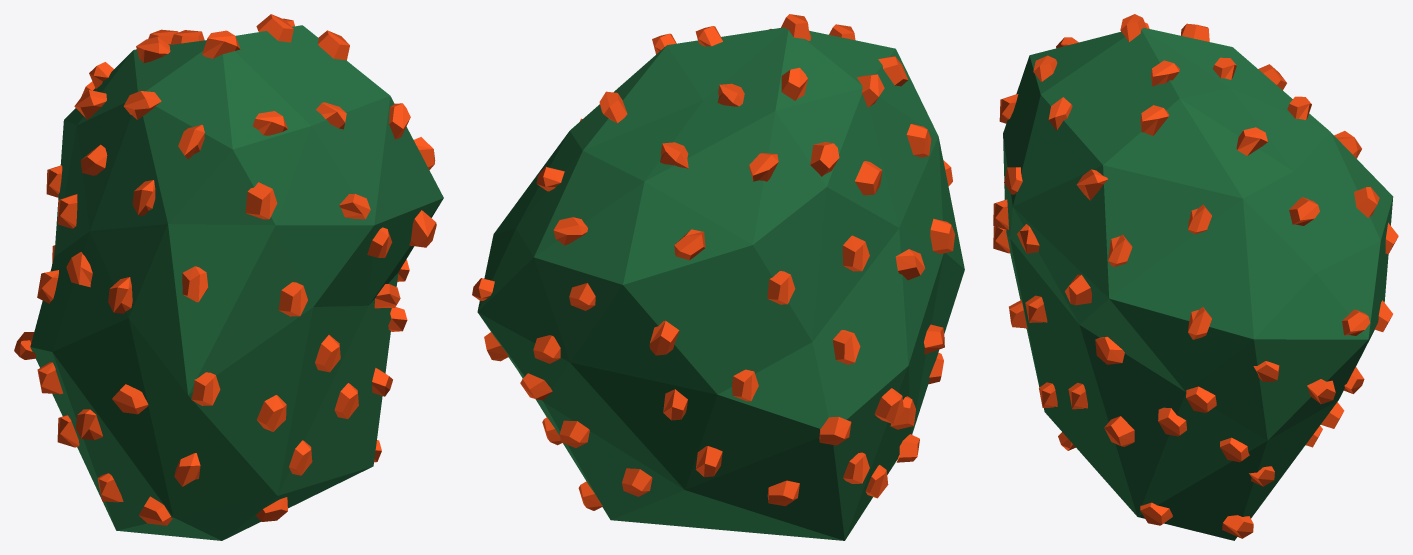
Rendered from bush_1.FBX.
3 renders of one model, left to right at view 1: azimuth 30°, elevation 25°; view 2: azimuth 150°, elevation 25°; view 3: azimuth 270°, elevation 25°, orthographic. The views are drawn at different scales.
Parts seen in each view (by area): view 1: bushes_1; view 2: bushes_1; view 3: bushes_1.
Part boxes in pixels (x1,y1,x2,y2): bushes_1: (14,14,443,540); bushes_1: (472,14,964,540); bushes_1: (993,14,1398,540).
Bounding box in the file's own units: 1.12 × 1.4 × 1.11.
1 material, 1 textured.
